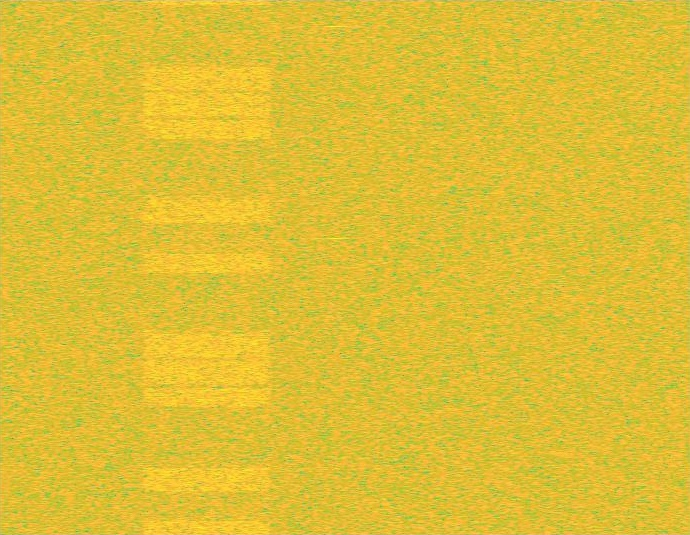LTE: (138, 0, 276, 534)
Radar: (330, 0, 343, 534)
